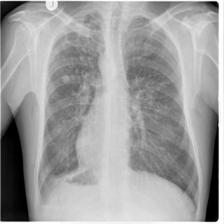tuberculosis: (32, 3, 202, 213)
